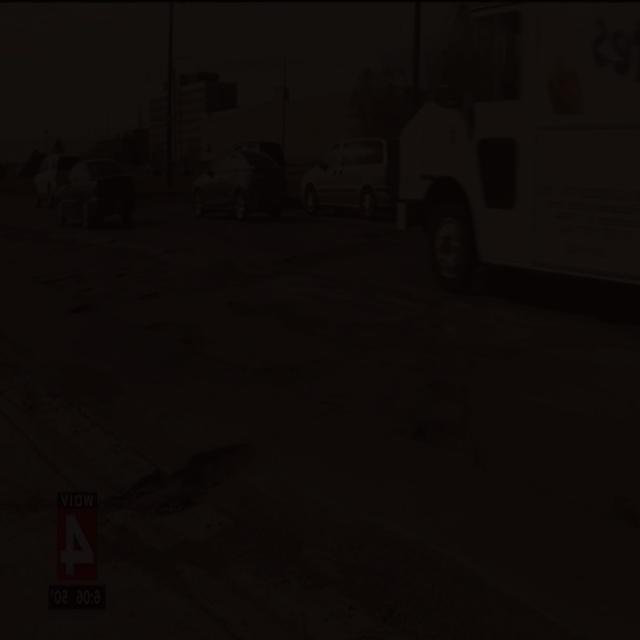Pothole: (107, 427, 268, 522), (408, 372, 496, 469), (43, 269, 172, 324), (149, 308, 208, 352), (600, 482, 640, 528)
